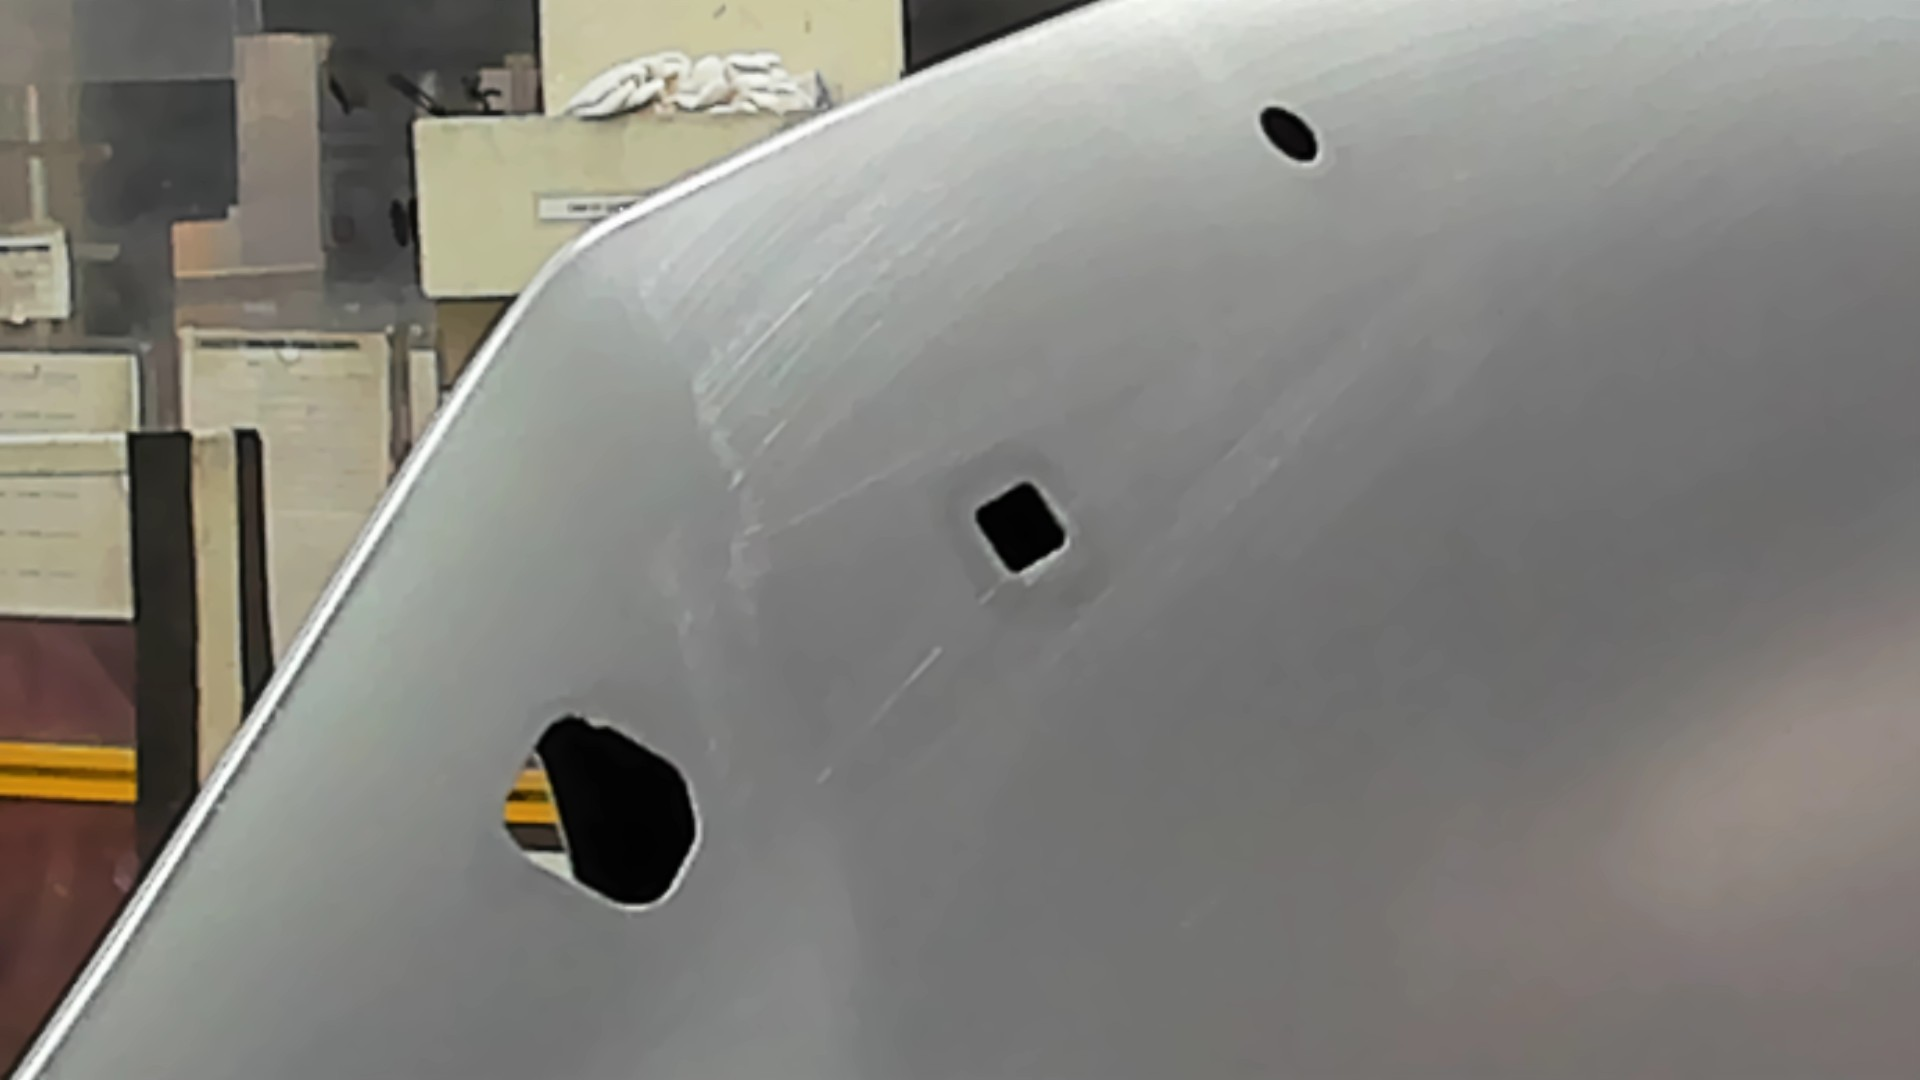chico: (1257, 100, 1323, 169)
grande: (495, 705, 705, 919)
mediano: (968, 473, 1075, 587)
